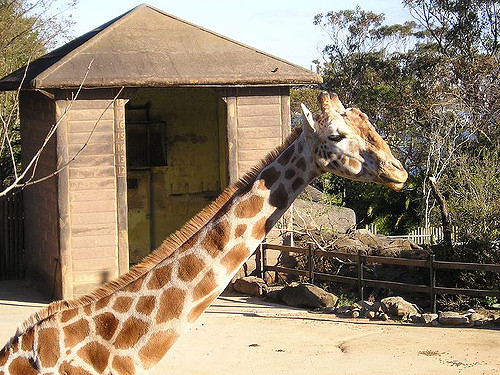giraffe: (15, 90, 418, 367)
